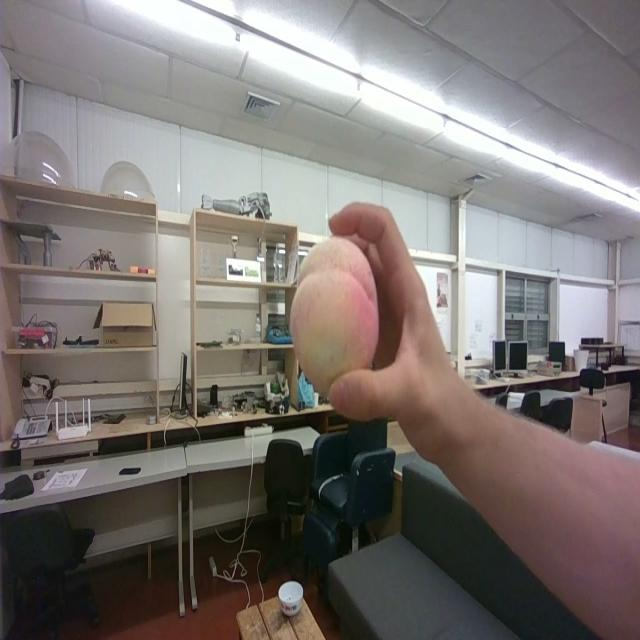peach: (290, 238, 379, 393)
